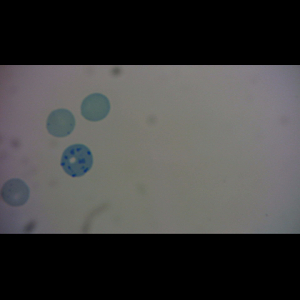aggregate reticulocyte: (60, 143, 94, 178)
erythrocyte: (80, 92, 111, 122)
punctate reticulocyte: (45, 107, 76, 139), (1, 177, 31, 207)
